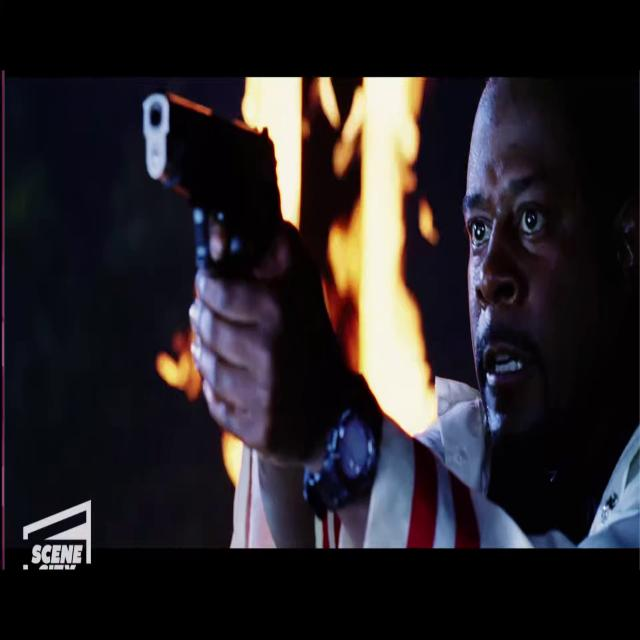weapons: (126, 70, 290, 382)
